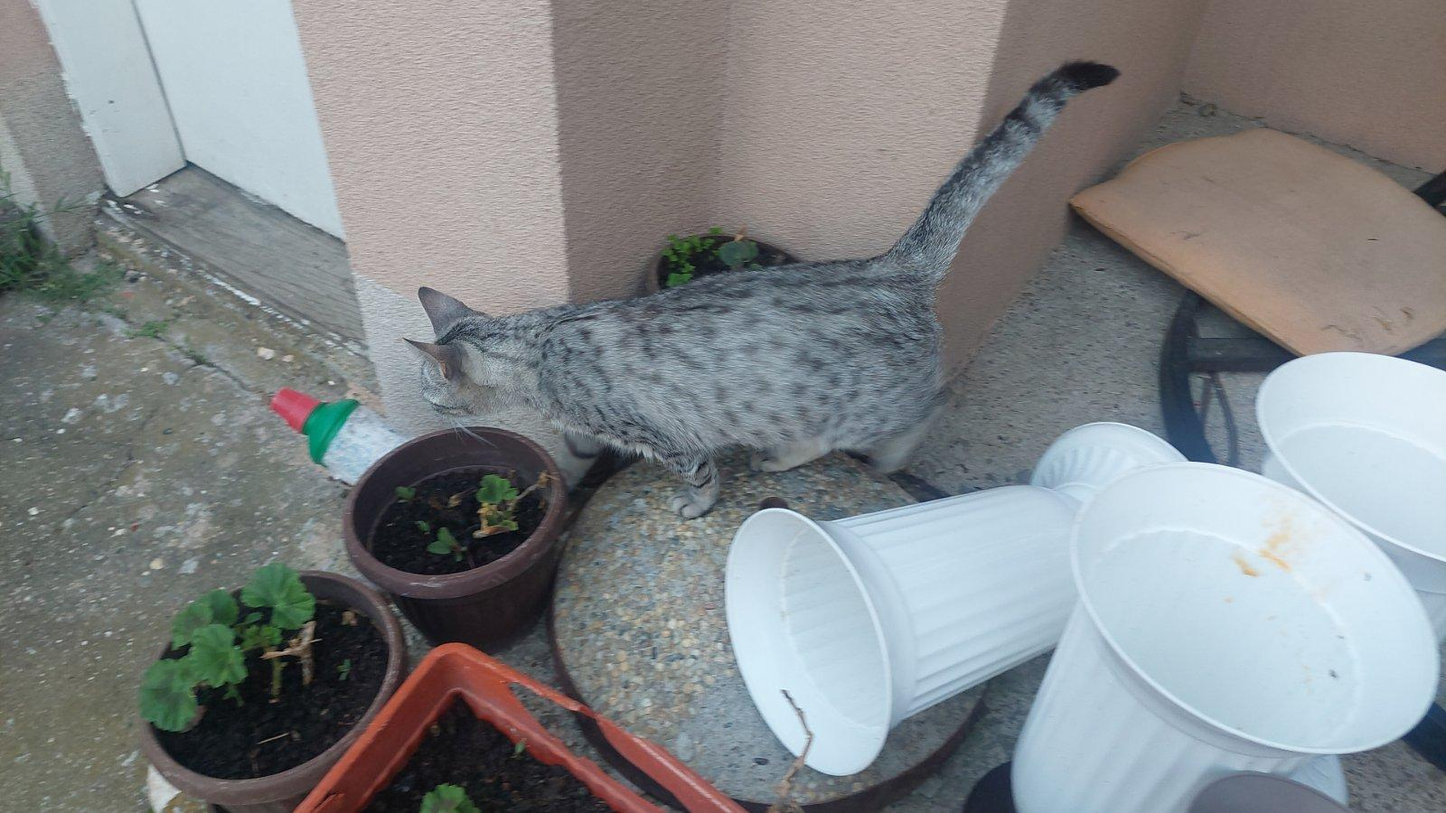macka: (401, 57, 1118, 522)
